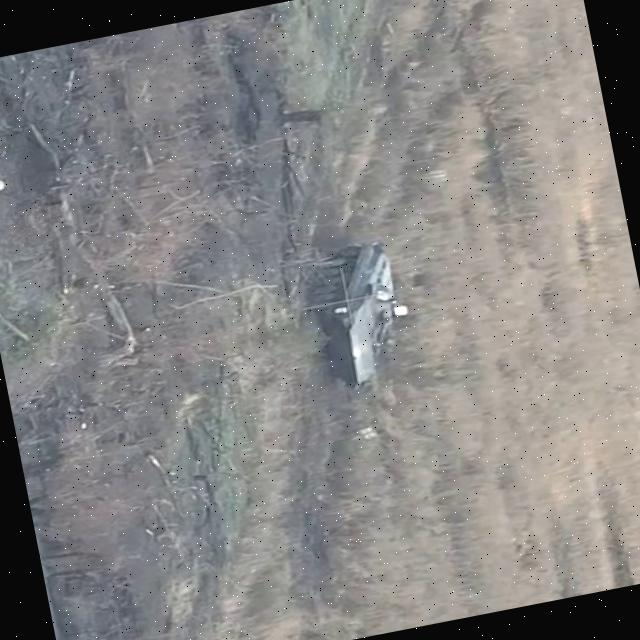AIFV: (306, 232, 418, 391)
